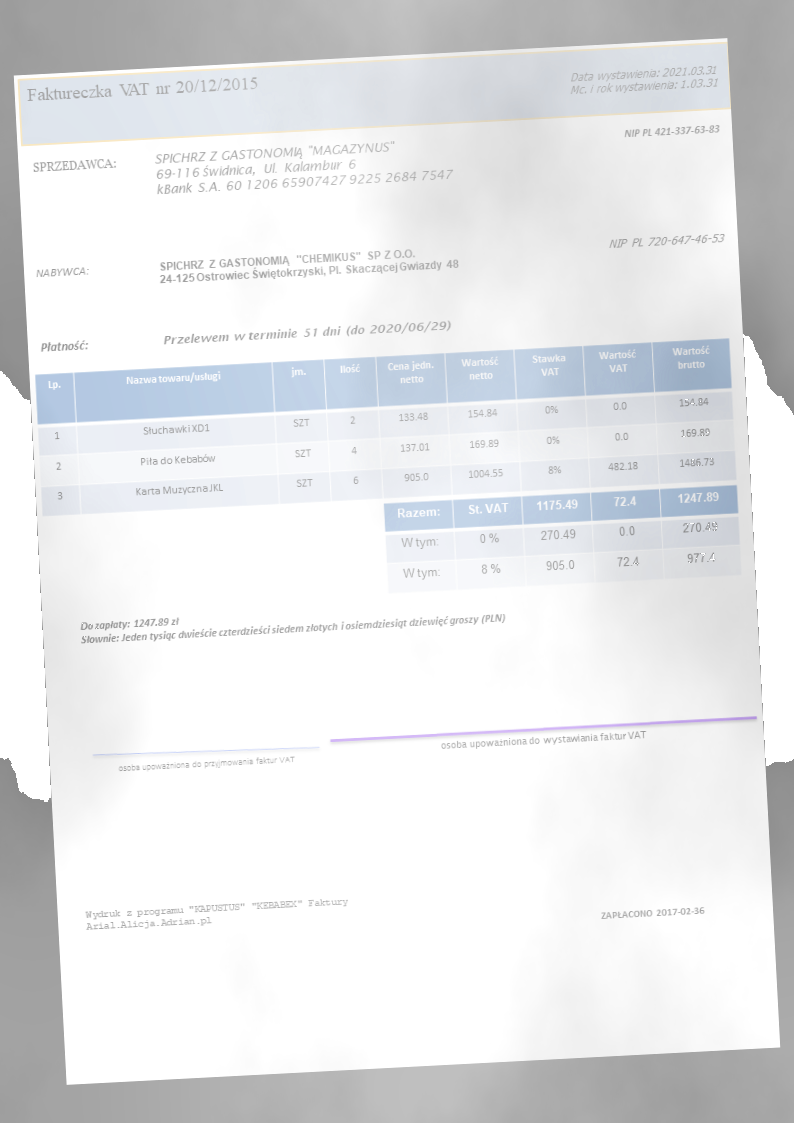Table: (33, 336, 737, 516), (382, 484, 743, 596)
TextBox: (77, 596, 507, 649), (150, 134, 457, 200), (155, 242, 461, 289), (82, 895, 352, 933), (162, 318, 453, 347), (25, 73, 260, 105), (568, 61, 721, 99), (438, 728, 649, 754), (116, 752, 297, 774), (606, 230, 727, 252), (621, 120, 723, 141), (597, 903, 706, 922), (29, 155, 119, 177), (34, 263, 91, 280), (37, 337, 90, 355)
